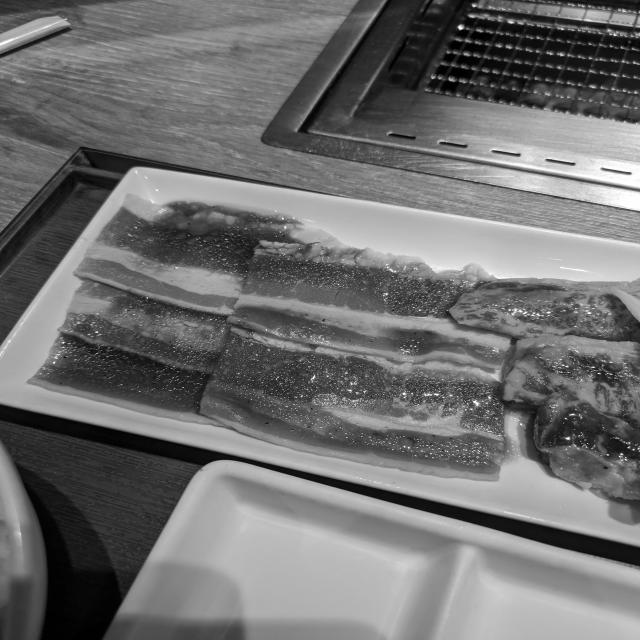NG raw beef,: (174, 325, 507, 487), (229, 243, 512, 375), (73, 192, 360, 316), (28, 334, 233, 429), (55, 276, 243, 377), (439, 276, 640, 343), (533, 388, 640, 511), (502, 331, 640, 422)
